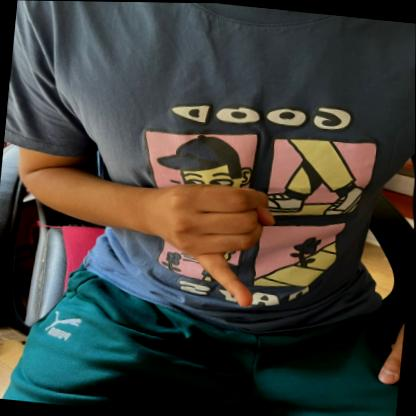Z: (155, 170, 282, 308)
